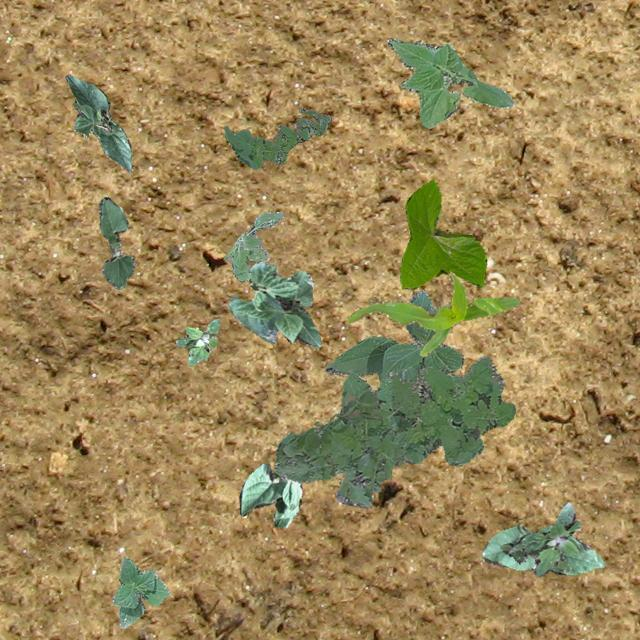crop: (346, 270, 518, 356), (324, 288, 462, 382), (386, 36, 514, 128), (398, 178, 484, 288), (227, 262, 321, 348), (65, 74, 132, 172), (482, 524, 604, 574), (238, 462, 302, 526), (112, 556, 168, 628), (98, 196, 134, 288)
weed: (272, 354, 514, 506), (222, 106, 330, 168), (500, 502, 580, 576), (222, 212, 284, 280), (174, 318, 218, 364)
